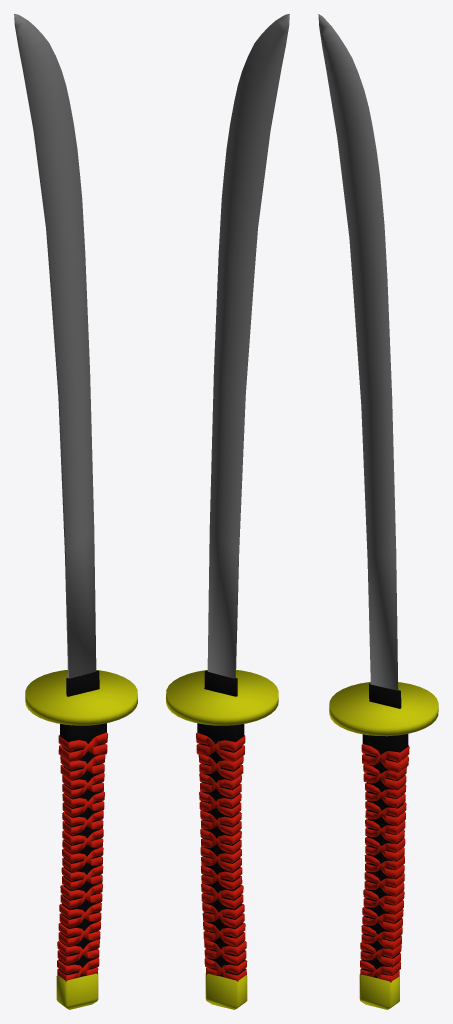
File: Katanatext.fbx
The picture shows the model from 3 angles, left to right: view 1: azimuth 30°, elevation 25°; view 2: azimuth 150°, elevation 25°; view 3: azimuth 330°, elevation 25°; orthographic projection. The views are drawn at different scales.
Visible parts, largest first — view 1: Katana; view 2: Katana; view 3: Katana.
Boxes of the visible parts, x1,y1,x2,y2 form: Katana: (14,14,137,1009); Katana: (166,14,289,1009); Katana: (318,14,438,1009).
Bounding box in the file's own units: 71.43 × 591 × 60.04.
Materials: 1 (1 with a texture image).
